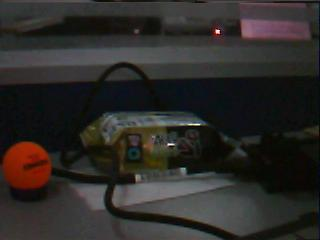oball: (3, 142, 50, 187)
